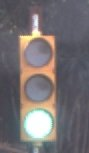Green: (15, 14, 69, 153)
